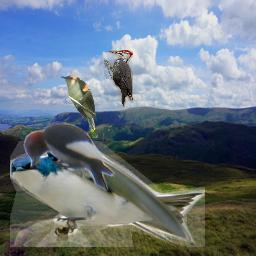Cuckoo: (58, 74, 99, 141)
Swallow: (10, 141, 205, 247)
Woodpecker: (21, 121, 117, 192), (104, 50, 133, 108)
